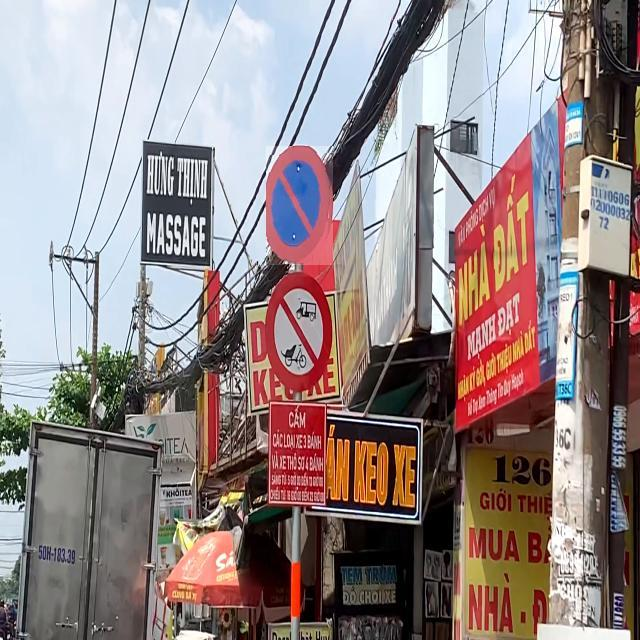P-131a: (266, 146, 333, 265)
